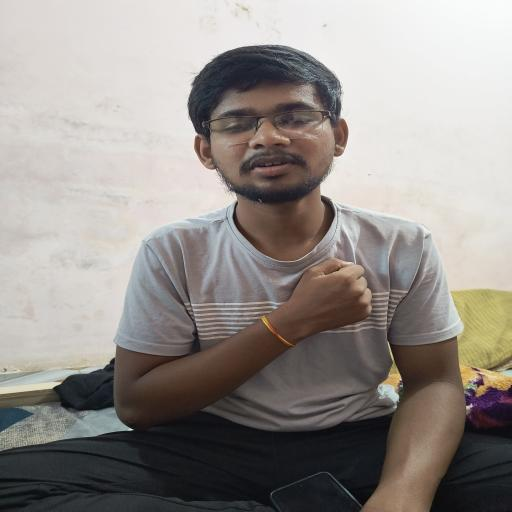Understood: (86, 205, 386, 452)
